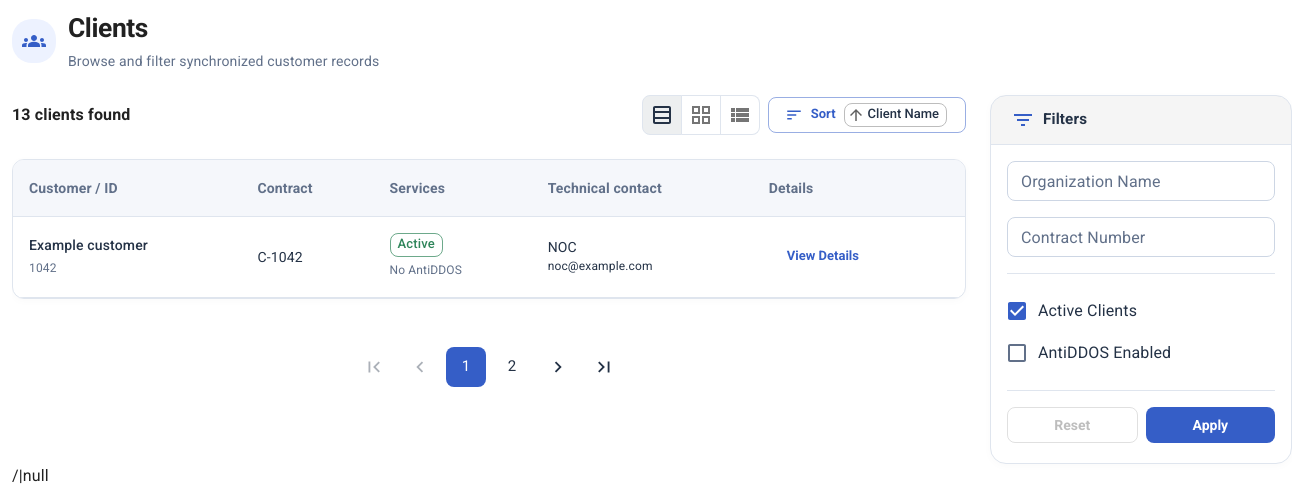
Test: customer filtering integration › applies normalized filters on submission and resets pagination
Check: the heading "Example customer" is shown, box [29,237,148,253]
Click the button named "Go to page 2" at (512, 366), box [492,346,532,386]
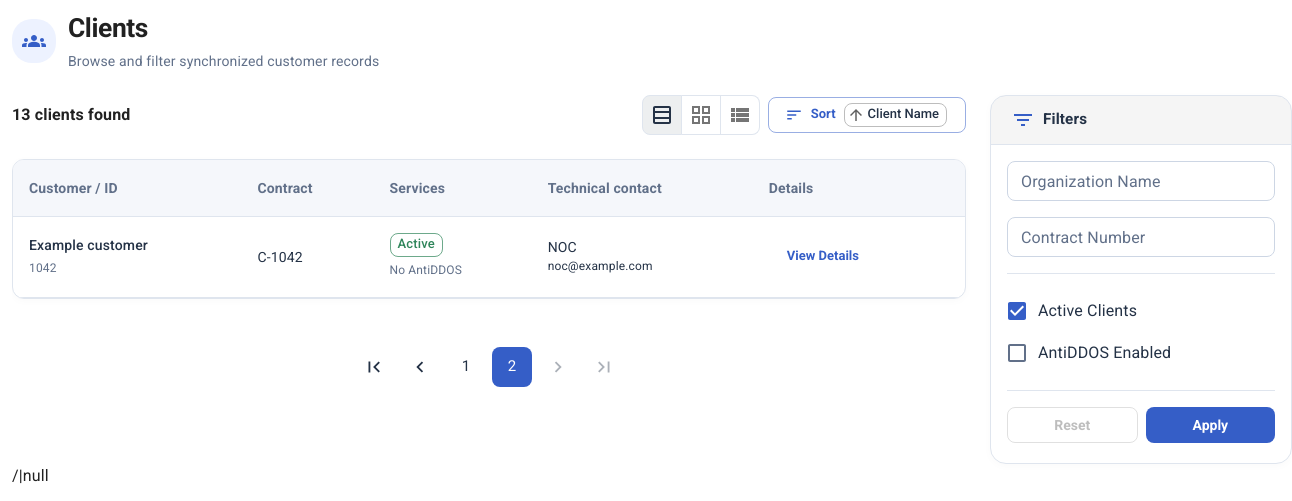
Type " Example " into the field labelled "Organization Name" at (1141, 181), box [1007,161,1275,201]
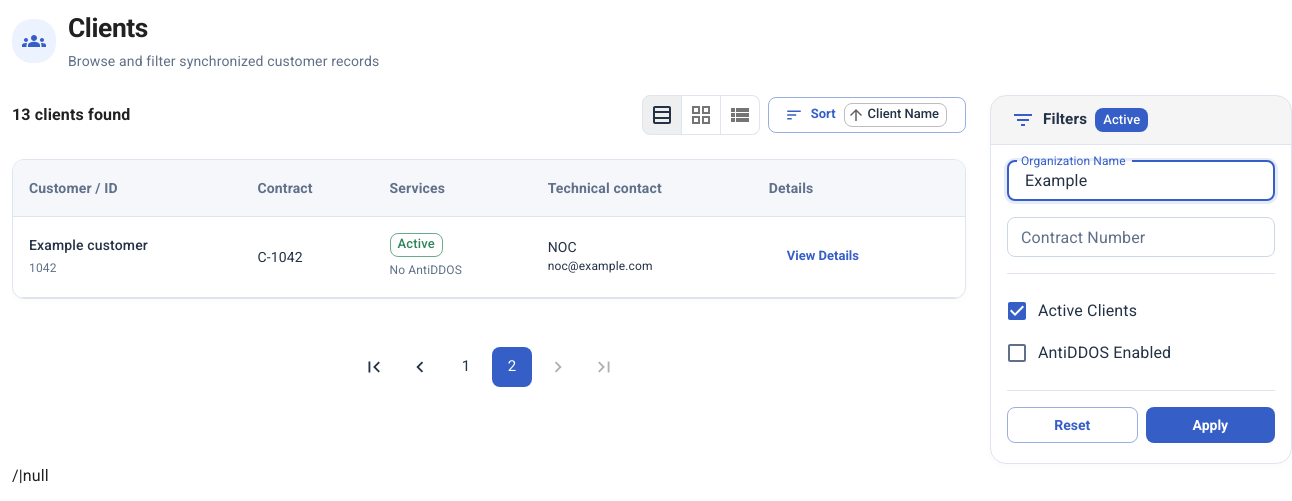
Type " C-1042 " into the field labelled "Contract Number" at (1141, 237), box [1007,217,1275,257]
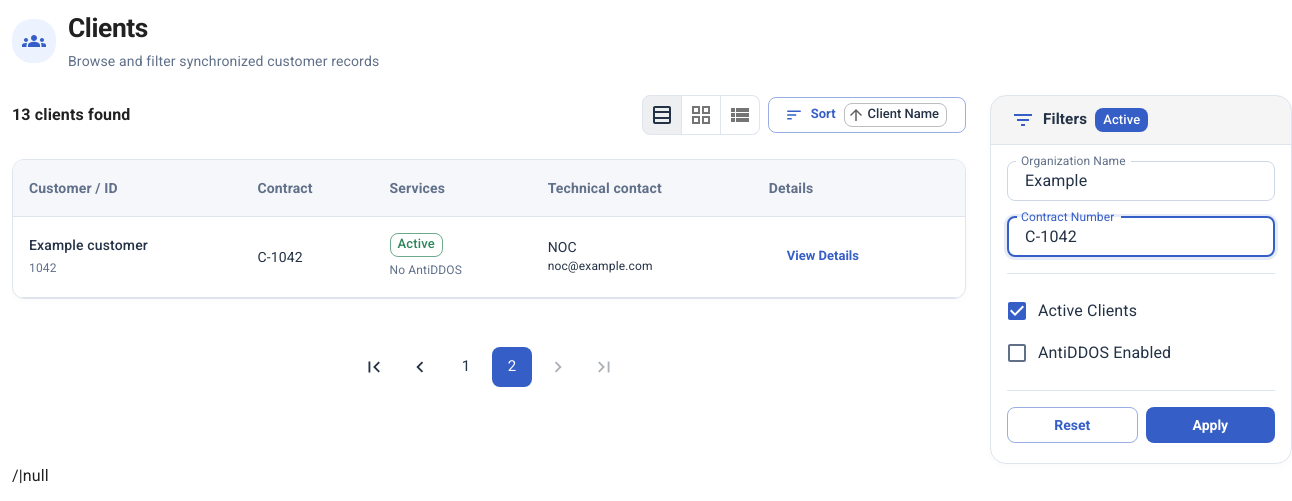
Click the checkbox labelled "Active Clients" at (1071, 311), box [1005,299,1137,323]
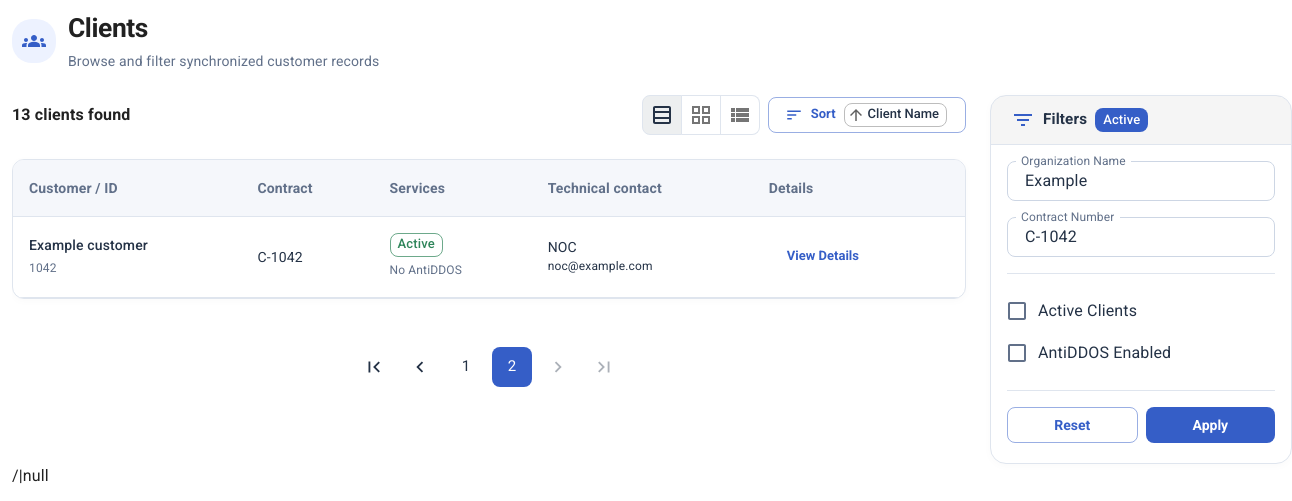
Click the checkbox labelled "AntiDDOS Enabled" at (1088, 353), box [1005,341,1171,365]
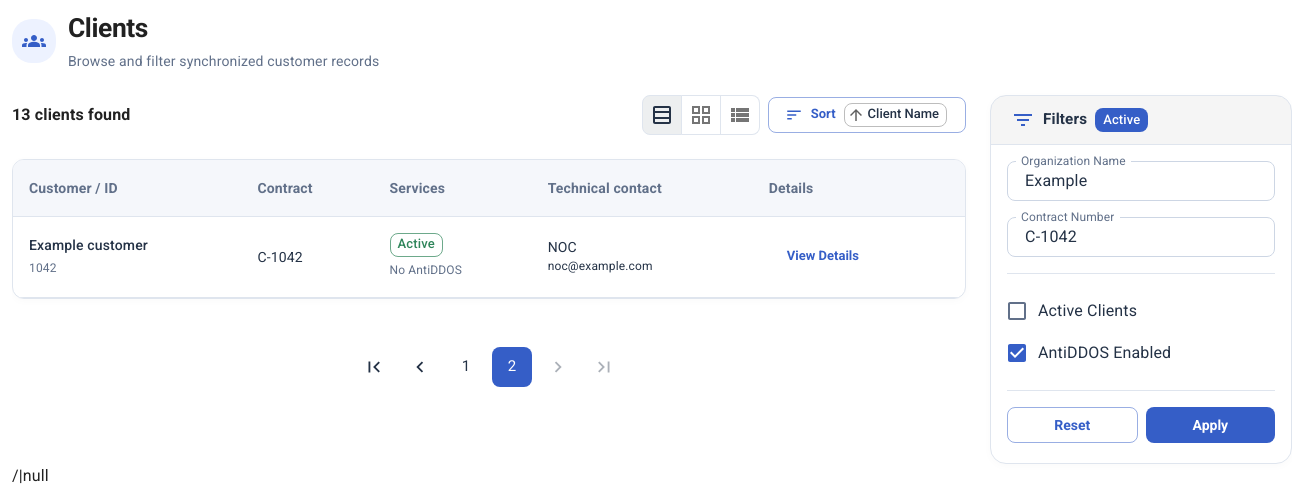
Click the button "Apply" at (1210, 425), box [1146,407,1275,443]
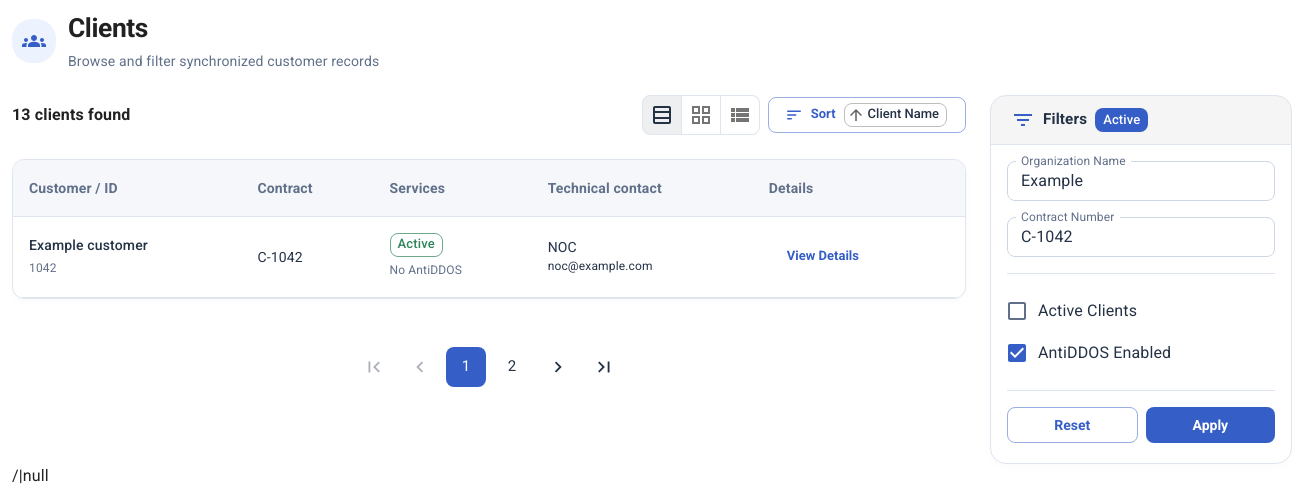
Check: the field labelled "Organization Name" holds "Example", box [1007,161,1275,201]
